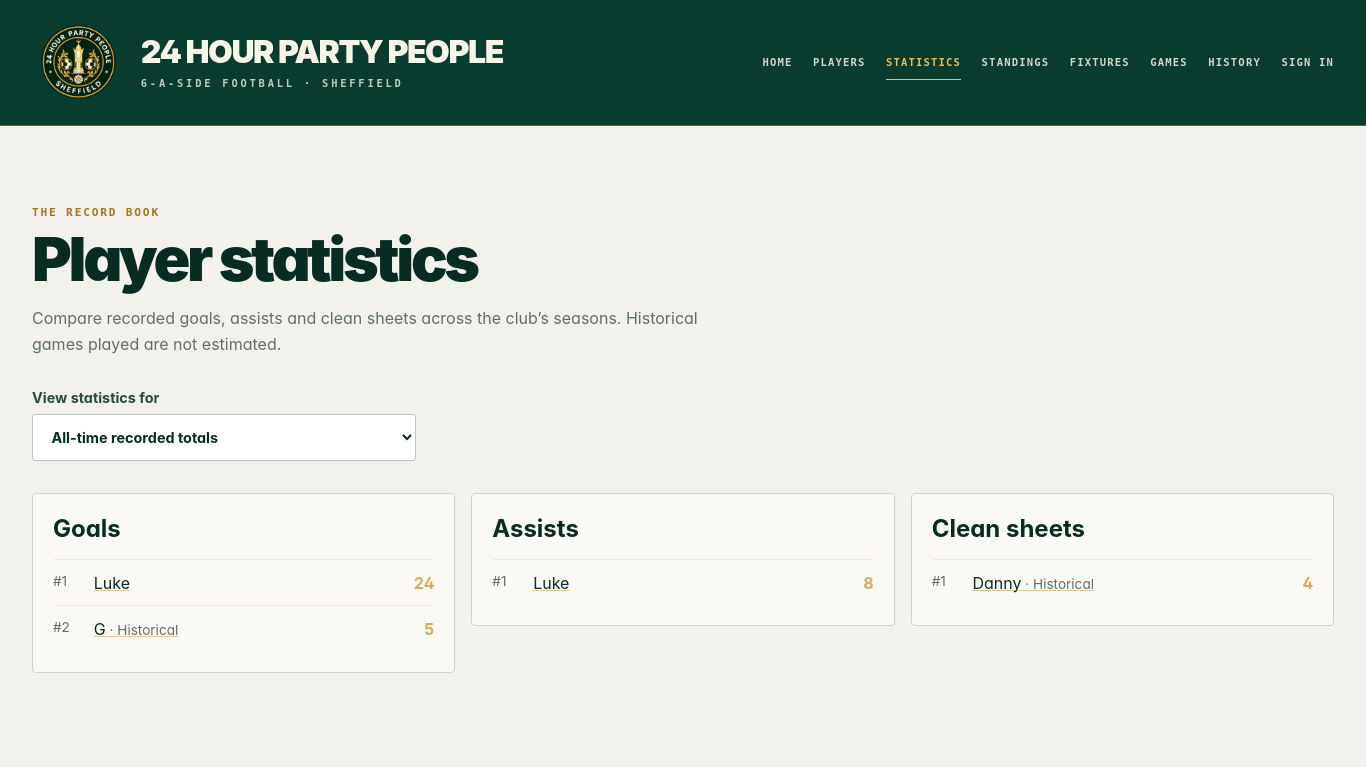
Test: App › shows season and all-time player leaderboards
expect the text "24" is shown: met, box [414,573,434,593]
expect the element named "Clean-sheet leaders" shows "Danny · Historical": met, box [911,493,1334,626]
Step 1. Select "Summer 2026 (current)" in the dropdown labelled "View statistics for" → (224, 438), box [32,414,416,461]
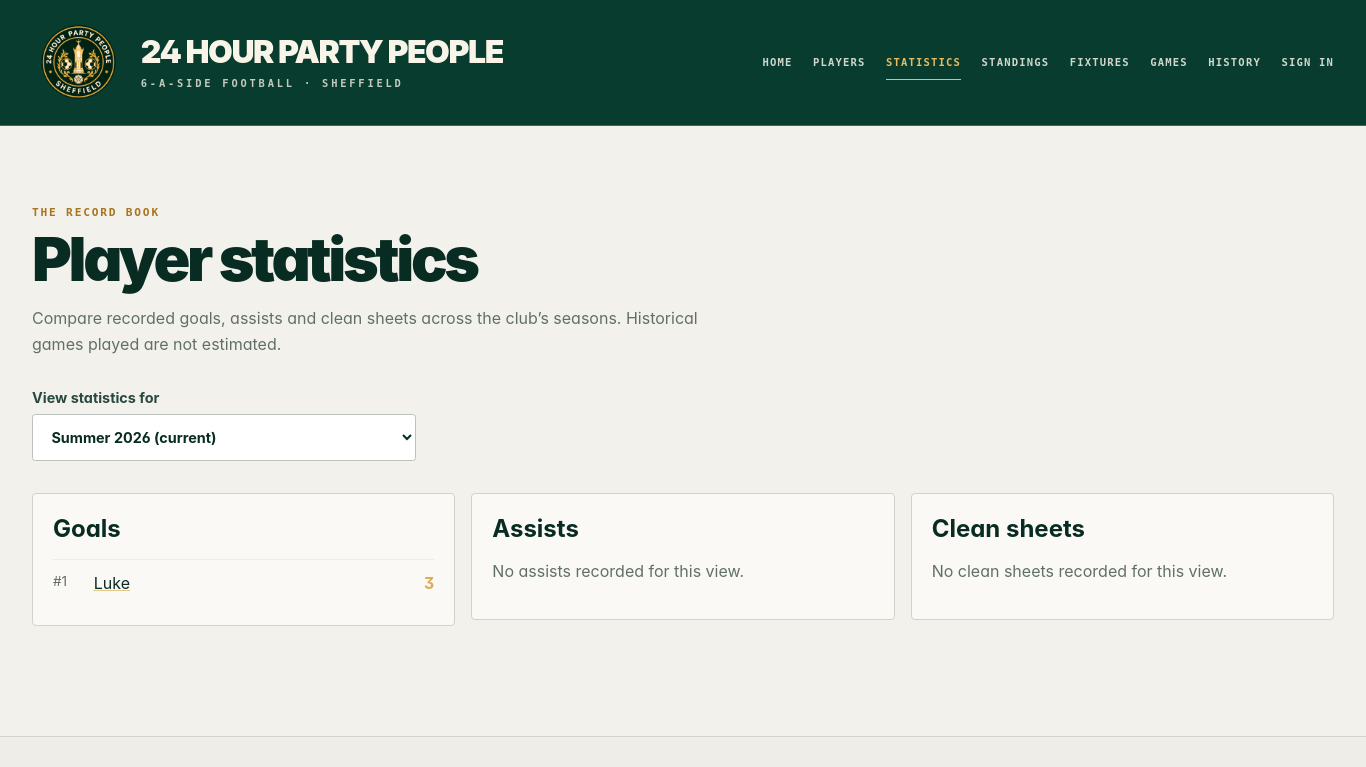
expect the text "3" is shown: met, box [424,573,434,593]
expect the text "No assists recorded for this view." is shown: met, box [492,561,744,581]
